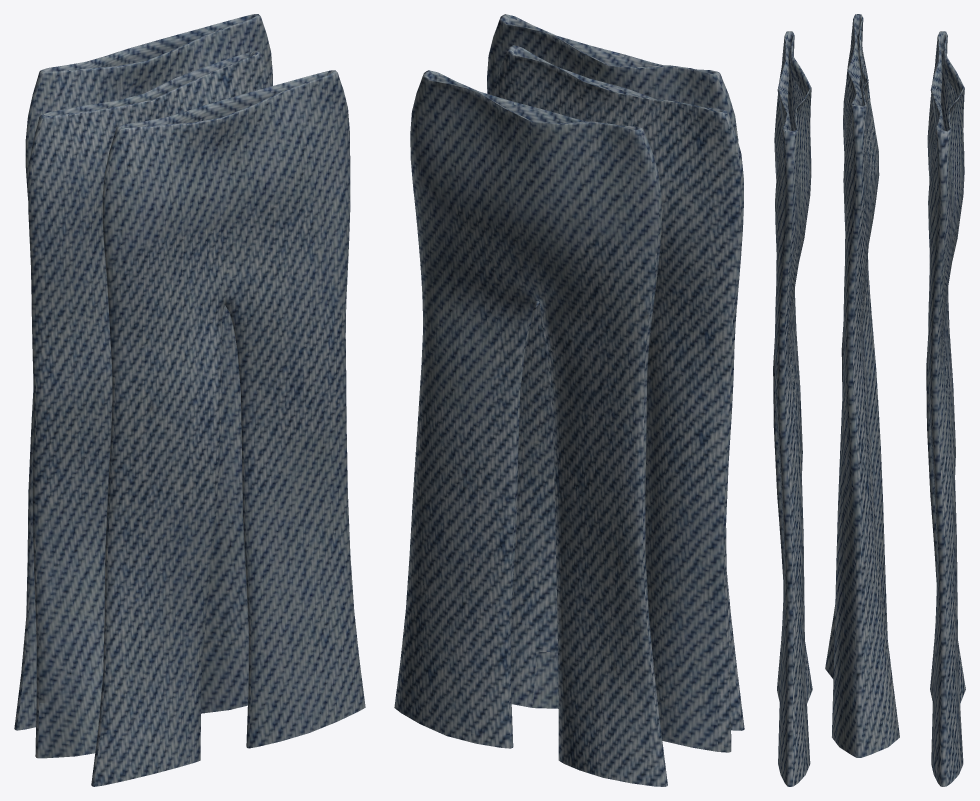
File: yifu12kuzi_02.fbx
3 renders of one model, left to right at view 1: azimuth 30°, elevation 25°; view 2: azimuth 150°, elevation 25°; view 3: azimuth 270°, elevation 25°, orthographic.
Visible parts, largest first — view 1: yifu12kuzi_02; view 2: yifu12kuzi_02; view 3: yifu12kuzi_02.
Part boxes in pixels (x1=…): yifu12kuzi_02: x1=14, y1=14, x2=365, y2=786; yifu12kuzi_02: x1=394, y1=14, x2=744, y2=786; yifu12kuzi_02: x1=773, y1=14, x2=965, y2=786.
Bounding box in the file's own units: 48.48 × 101 × 26.68.
